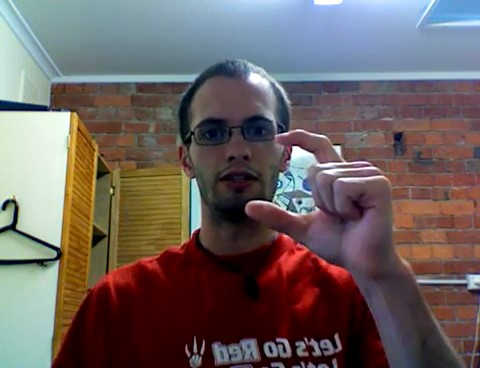C: (238, 122, 418, 279)
